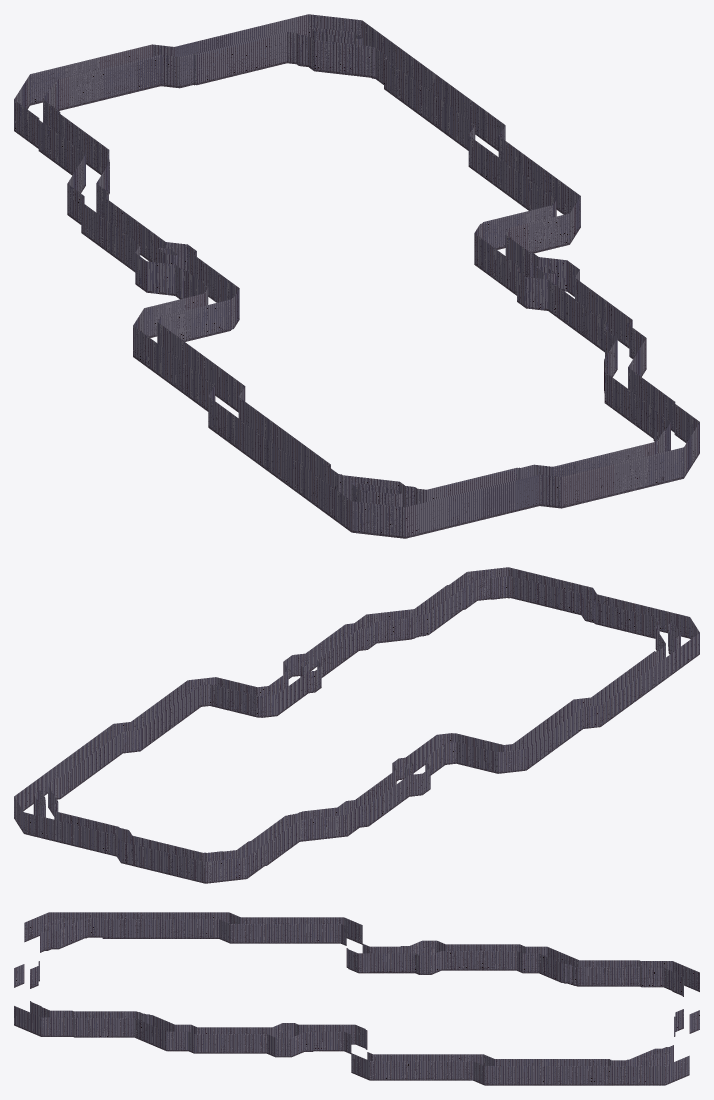
The model's file is CherryBlossomRawTrack.glb.
3 views of the same model, one above another, from view 1: azimuth 30°, elevation 25°; view 2: azimuth 150°, elevation 25°; view 3: azimuth 270°, elevation 25° (orthographic). The views are drawn at different scales.
Visible parts, largest first — view 1: stone.013; view 2: stone.013; view 3: stone.013.
Part boxes in pixels (<box>): stone.013: <box>14,14,699,538</box>; stone.013: <box>14,567,699,883</box>; stone.013: <box>14,912,699,1085</box>.
Bounding box in the file's own units: 250 × 15 × 472.
6 materials, 6 textured.
